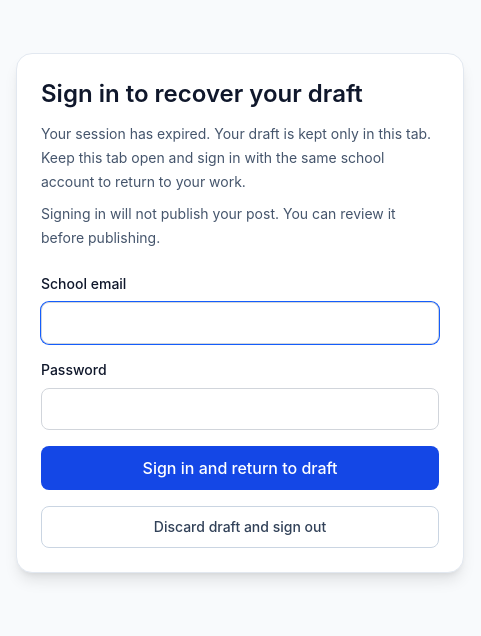
DraftSessionRecovery › keeps the draft locked when the session check has a network failure
Step 1. Type "hcps-review@henricostudents.org" into the field labelled "School email" → (240, 323), box top-left (41, 302), bottom-right (439, 344)
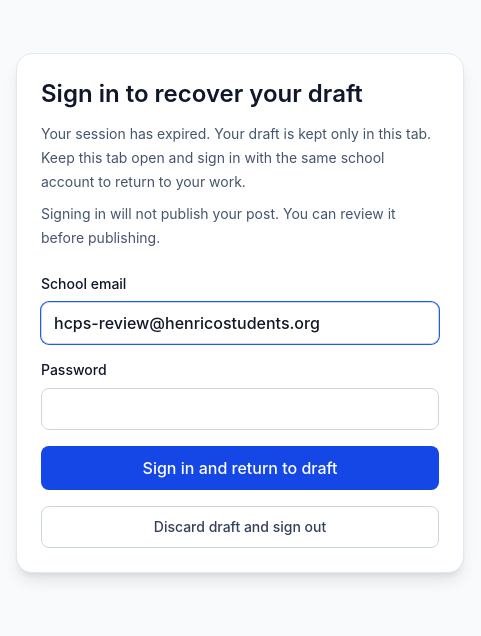
Step 2. Type "Synthetic-recovery-password-Aa1!" into the password field labelled "Password" → (240, 409), box top-left (41, 388), bottom-right (439, 430)
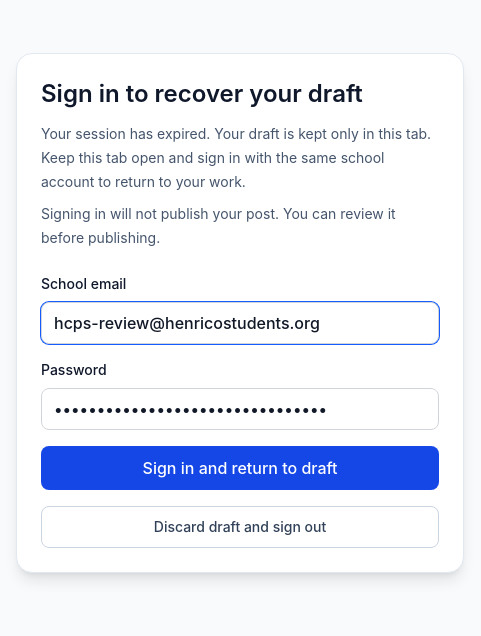
Step 3. Submit the form "Sign in and return to draft", box top-left (41, 274), bottom-right (439, 490)
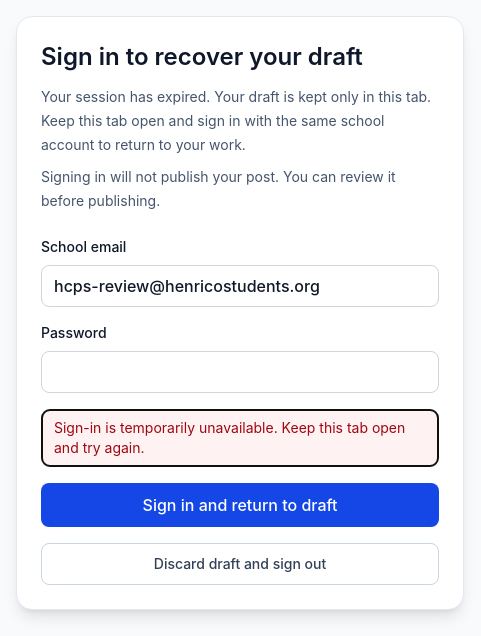
Now the message shows "Sign-in is temporarily unavailable", box top-left (54, 419), bottom-right (405, 456)
